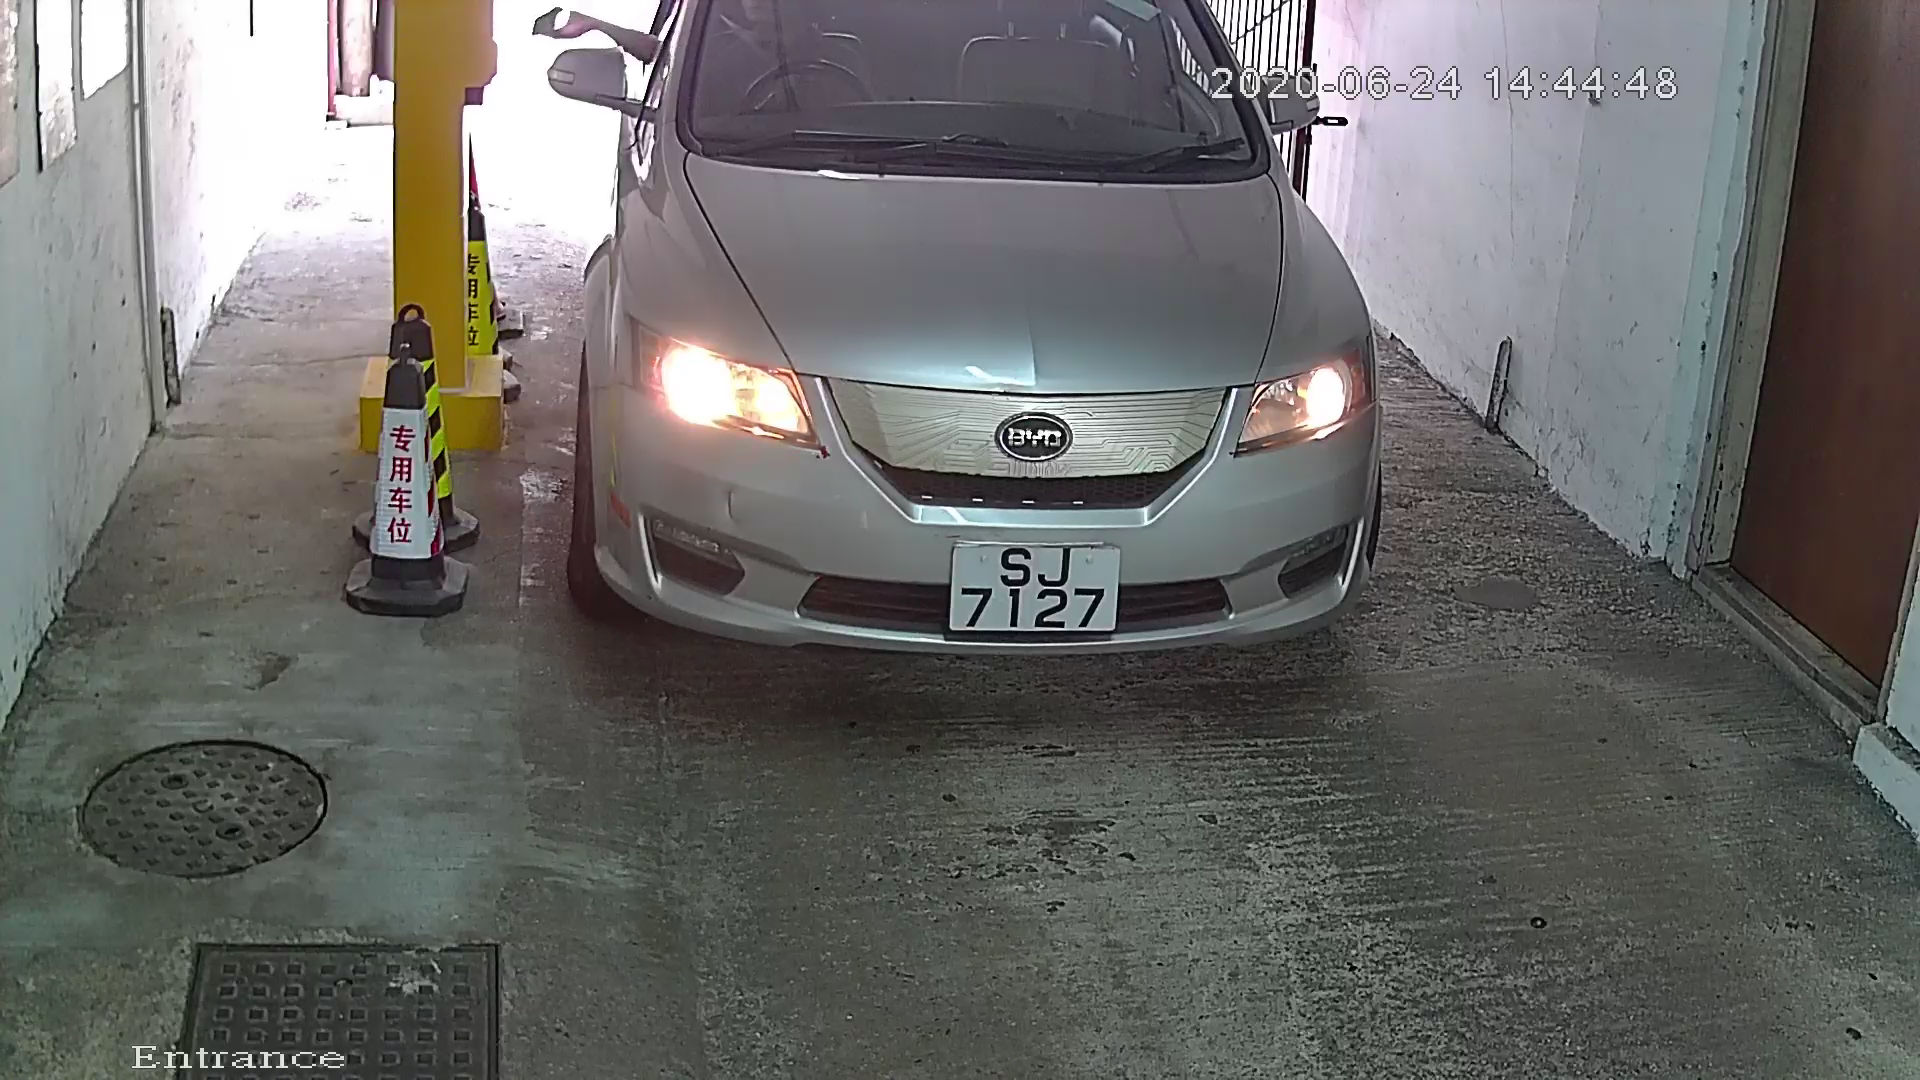Car: (544, 1, 1434, 742)
License Plate: (936, 523, 1131, 650)
